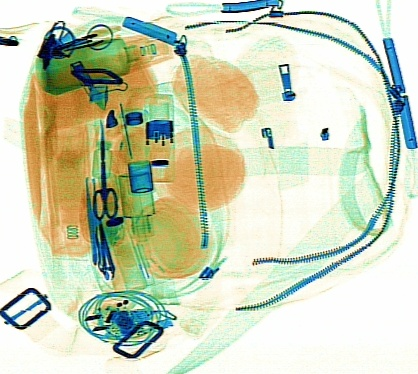scissors: (92, 118, 118, 220)
